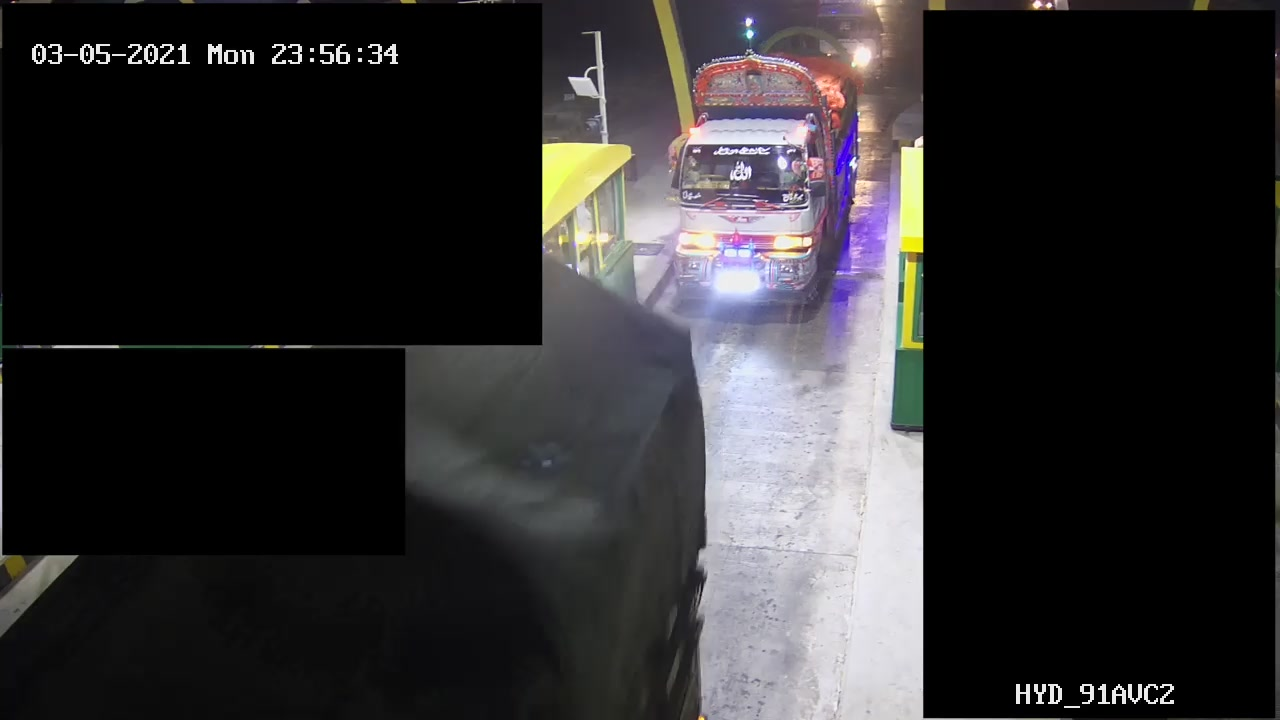F5: (660, 23, 855, 308)
